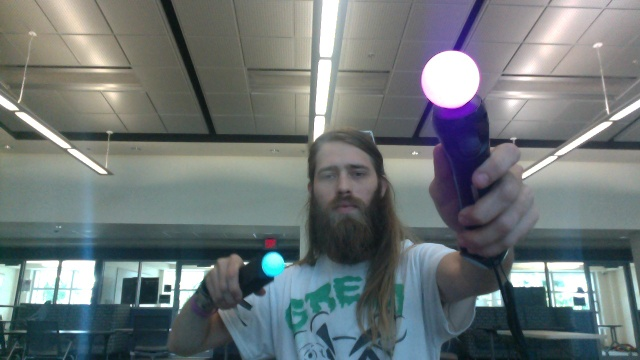wand: (422, 53, 480, 109), (262, 252, 284, 276)
